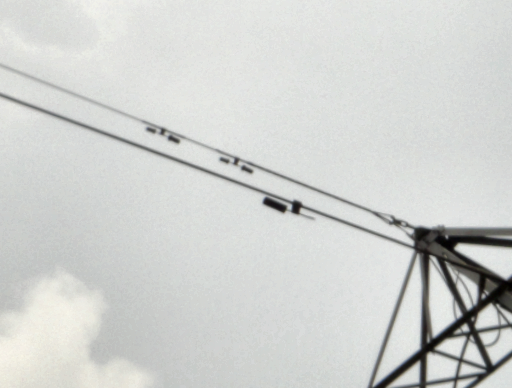damper: (144, 124, 182, 145), (218, 155, 256, 174)
damper_defect: (258, 194, 318, 221)
